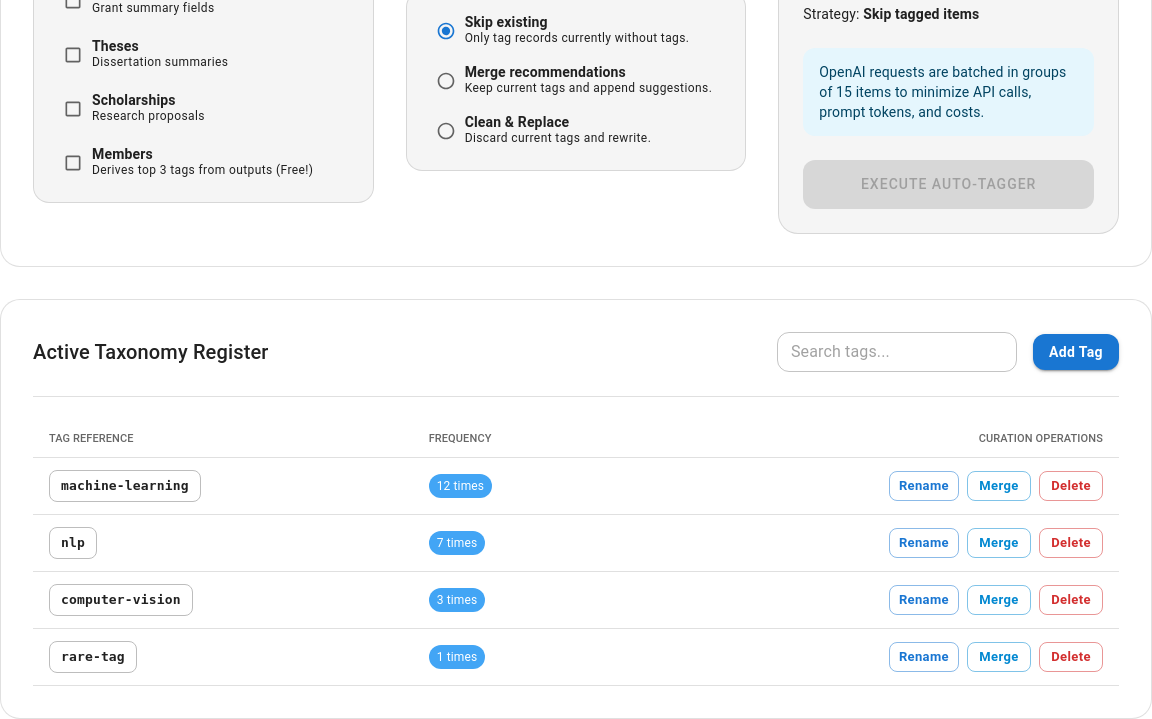
Test case: TagsCurationClient › opens rename dialog with the correct tag pre-filled
(page scrolled)
Note: Find the Rename button for 'nlp'
Click the button "Rename" in the row of "nlp" at (924, 543), box [889, 528, 959, 558]
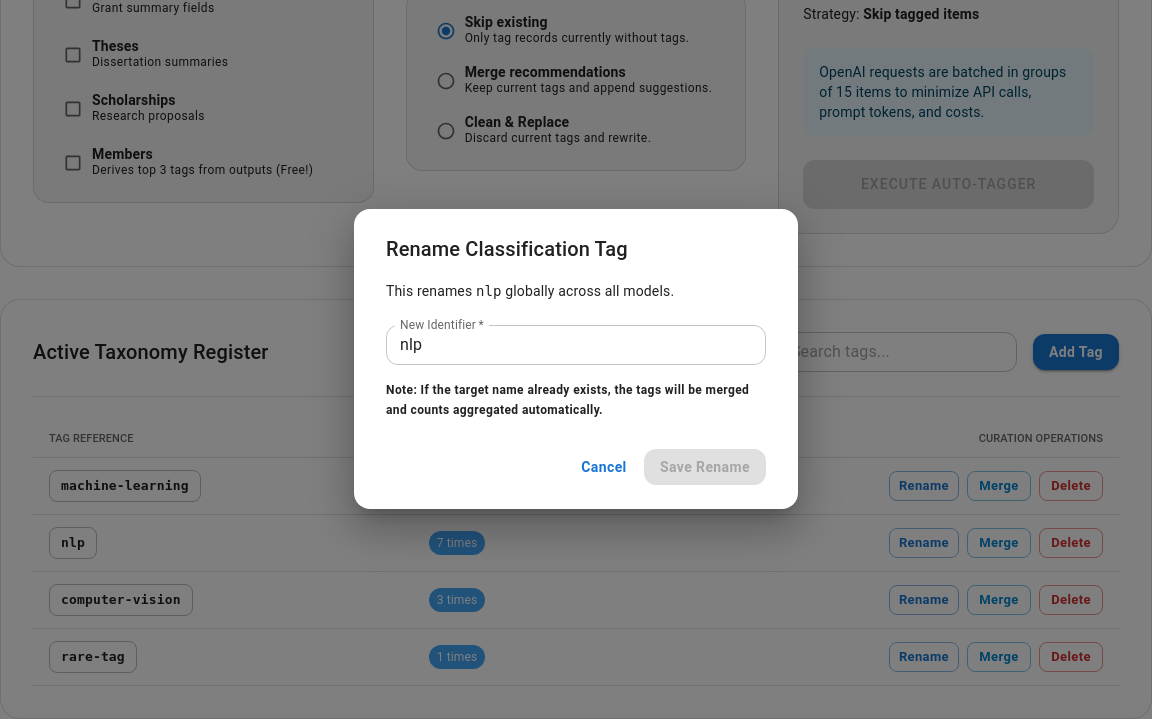
Now the dialog is shown, box [354, 209, 798, 509]
